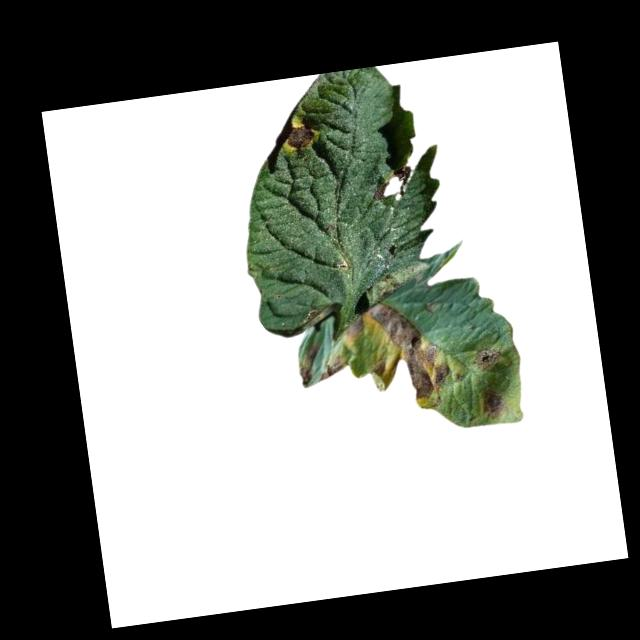Early_blight: (292, 292, 457, 425), (371, 166, 415, 204), (285, 122, 320, 155), (477, 384, 508, 421), (473, 345, 504, 374)
